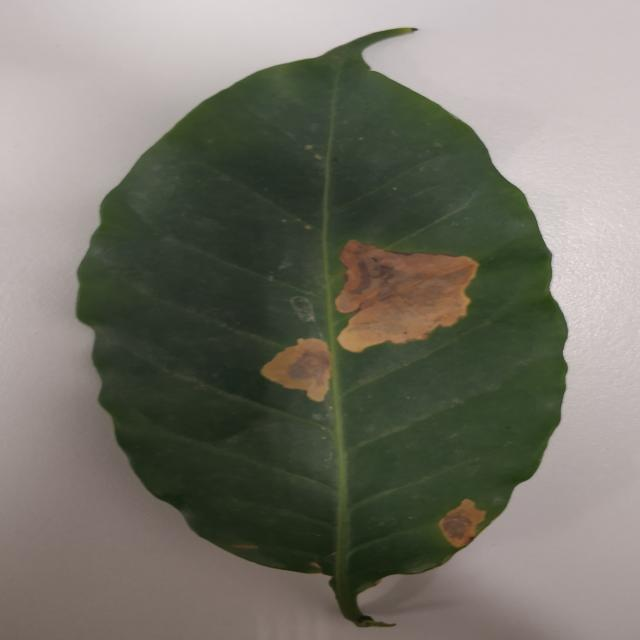Plaga-Minador: (75, 28, 569, 628)
